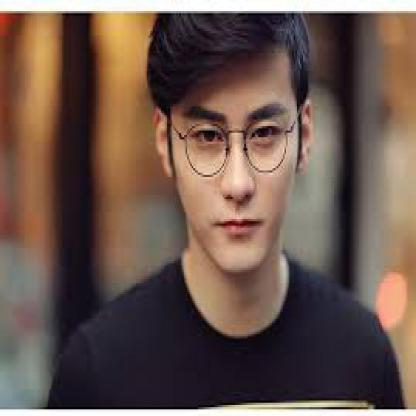glasses: (172, 106, 306, 178)
